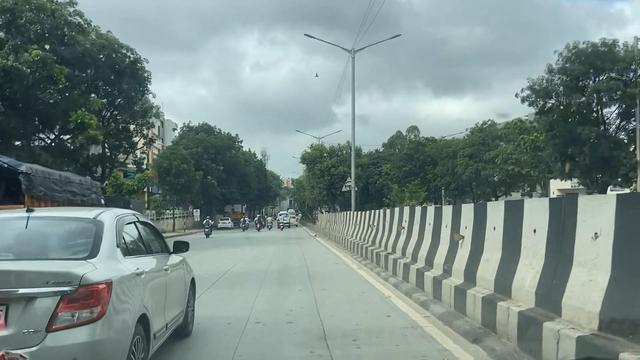LMV: (0, 206, 199, 360)
